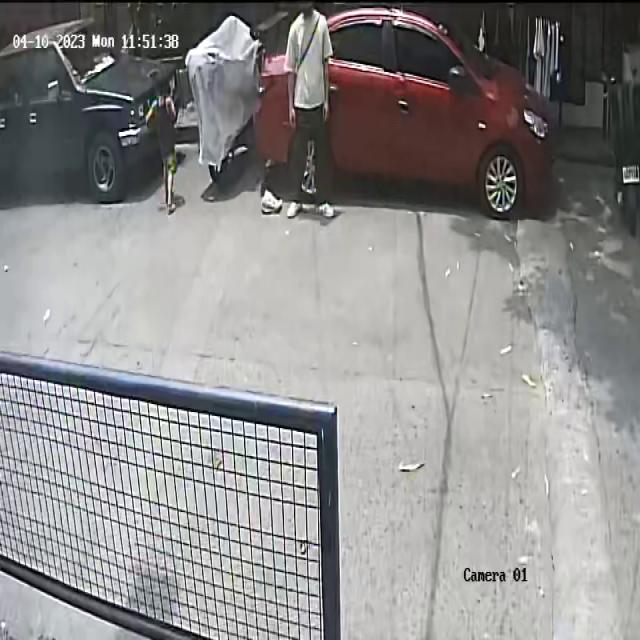human: (263, 5, 335, 216)
trash: (262, 184, 284, 218)
